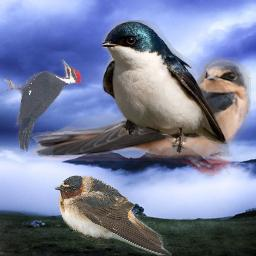Swallow: (32, 56, 251, 176), (102, 20, 229, 154), (54, 175, 172, 256)
Woodpecker: (3, 59, 83, 152)
